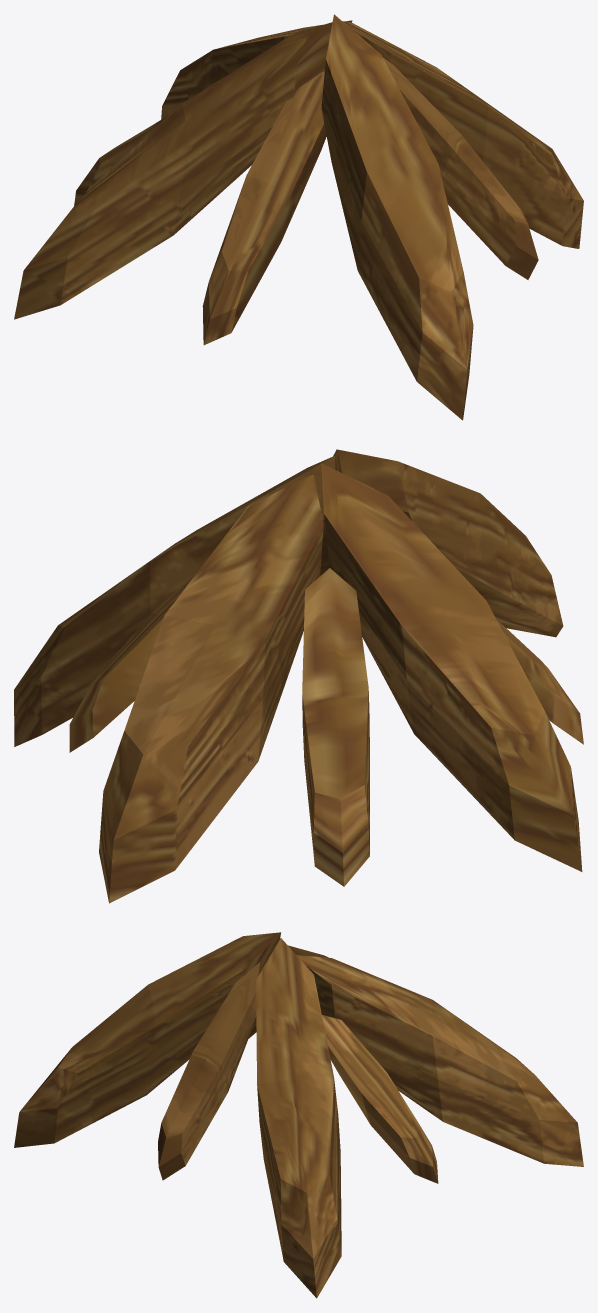
File: Fireplace.glb
3 views of the same model, one above another, from view 1: azimuth 30°, elevation 25°; view 2: azimuth 150°, elevation 25°; view 3: azimuth 270°, elevation 25° (orthographic). The views are drawn at different scales.
Parts seen in each view (by area): view 1: Timber1.006; view 2: Timber1.006; view 3: Timber1.006.
Part boxes in pixels (bbox=[...]): Timber1.006: bbox=[14, 14, 583, 420]; Timber1.006: bbox=[14, 449, 583, 903]; Timber1.006: bbox=[14, 932, 583, 1298].
Size of the model in its own units: 10.54 by 5.9 by 11.75.
1 material, 1 textured.
